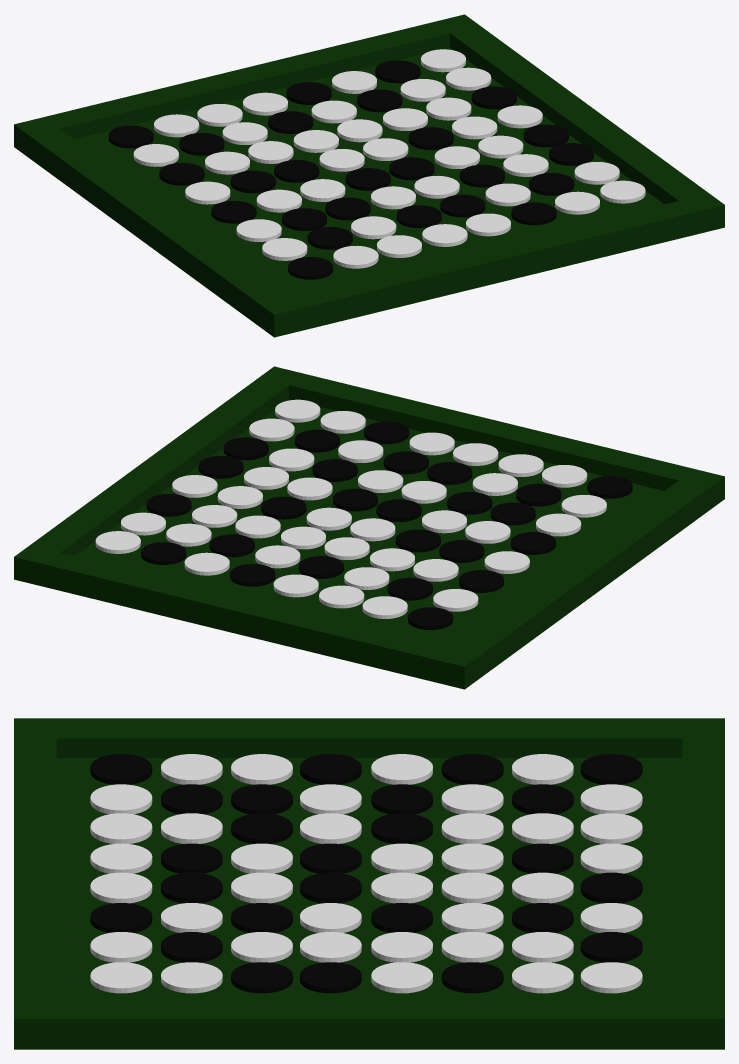
Rendered from othello.glb.
3 renders of one model, top to bottom at view 1: azimuth 30°, elevation 25°; view 2: azimuth 150°, elevation 25°; view 3: azimuth 270°, elevation 25°, orthographic. The views are drawn at different scales.
Visible parts, largest first — view 1: Cube; view 2: Cube; view 3: Cube.
Boxes of the visible parts, x1,y1,x2,y2 form: Cube: (14,14,724,337); Cube: (14,366,724,689); Cube: (14,718,724,1049).
Size of the model in its own units: 8.18 by 0.4142 by 8.18.
